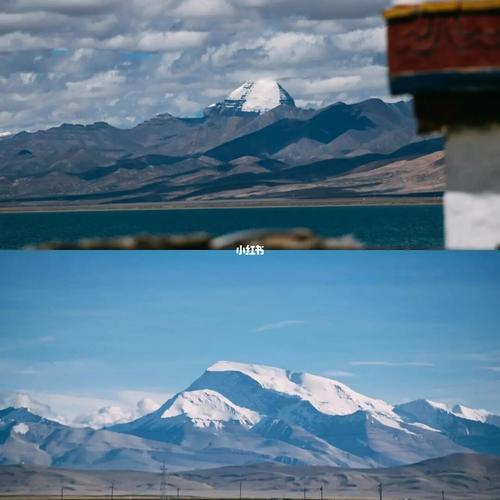mountain: (6, 347, 484, 482), (16, 72, 410, 204)
sky_cloud: (7, 252, 500, 384)
